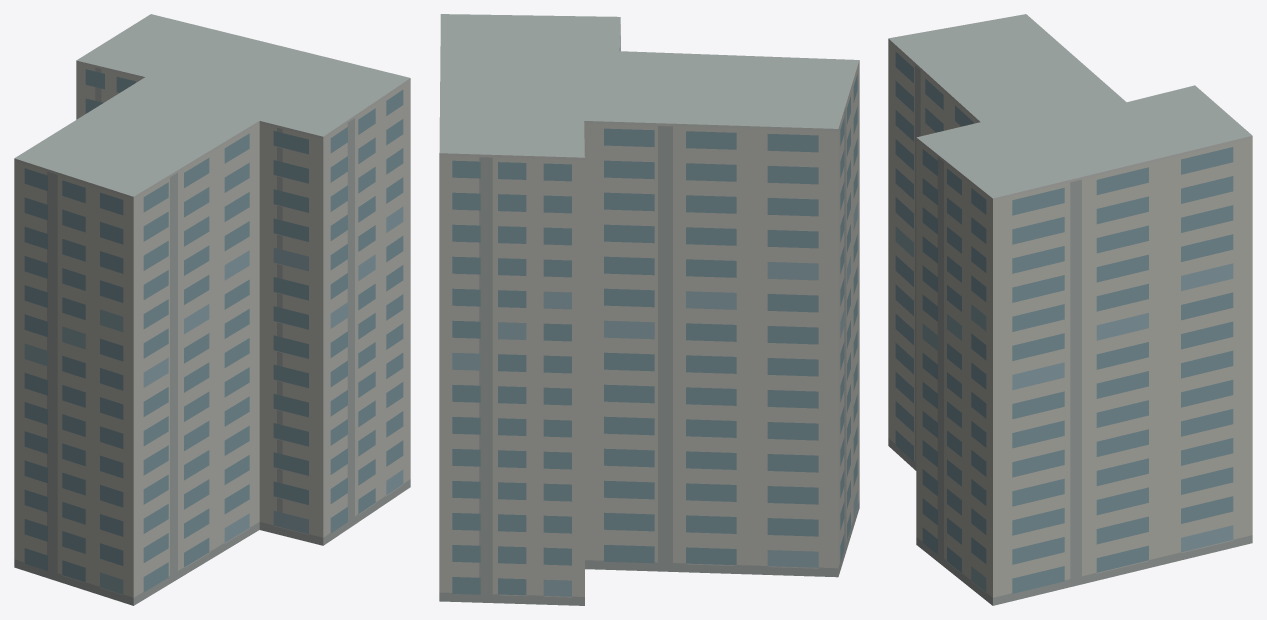
File: residential-5b9bfcf9-736c-4610-83e4-31513ea48afc.glb
3 renders of one model, left to right at view 1: azimuth 30°, elevation 25°; view 2: azimuth 150°, elevation 25°; view 3: azimuth 270°, elevation 25°, orthographic. The views are drawn at different scales.
Parts seen in each view (by area): view 1: residential-5b9bfcf9-736c-4610-83e4-31513ea48afc.tmp; view 2: residential-5b9bfcf9-736c-4610-83e4-31513ea48afc.tmp; view 3: residential-5b9bfcf9-736c-4610-83e4-31513ea48afc.tmp.
Part boxes in pixels (x1,y1,x2,y2): residential-5b9bfcf9-736c-4610-83e4-31513ea48afc.tmp: [14, 14, 410, 605]; residential-5b9bfcf9-736c-4610-83e4-31513ea48afc.tmp: [439, 14, 859, 605]; residential-5b9bfcf9-736c-4610-83e4-31513ea48afc.tmp: [888, 14, 1252, 605].
Size of the model in its own units: 38.86 by 40 by 32.44.
